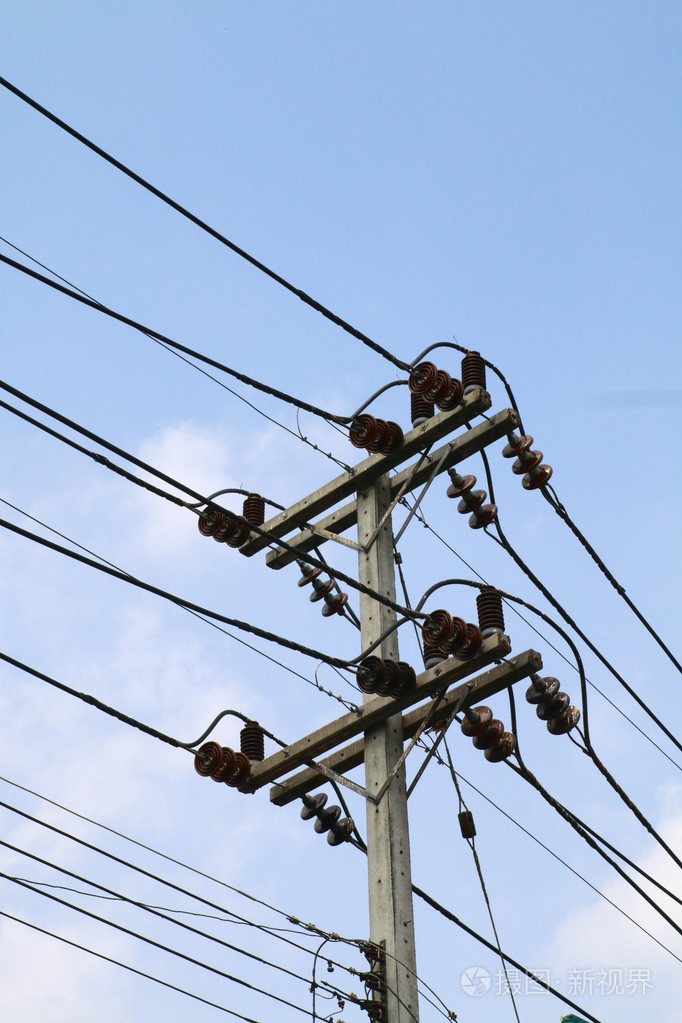insulator: (499, 432, 553, 493), (293, 795, 351, 850), (529, 676, 581, 736), (424, 609, 483, 661), (409, 358, 466, 409), (294, 568, 351, 618), (463, 709, 513, 766), (447, 476, 497, 530), (192, 742, 250, 788), (356, 656, 417, 698), (191, 505, 253, 545), (349, 414, 409, 455)
